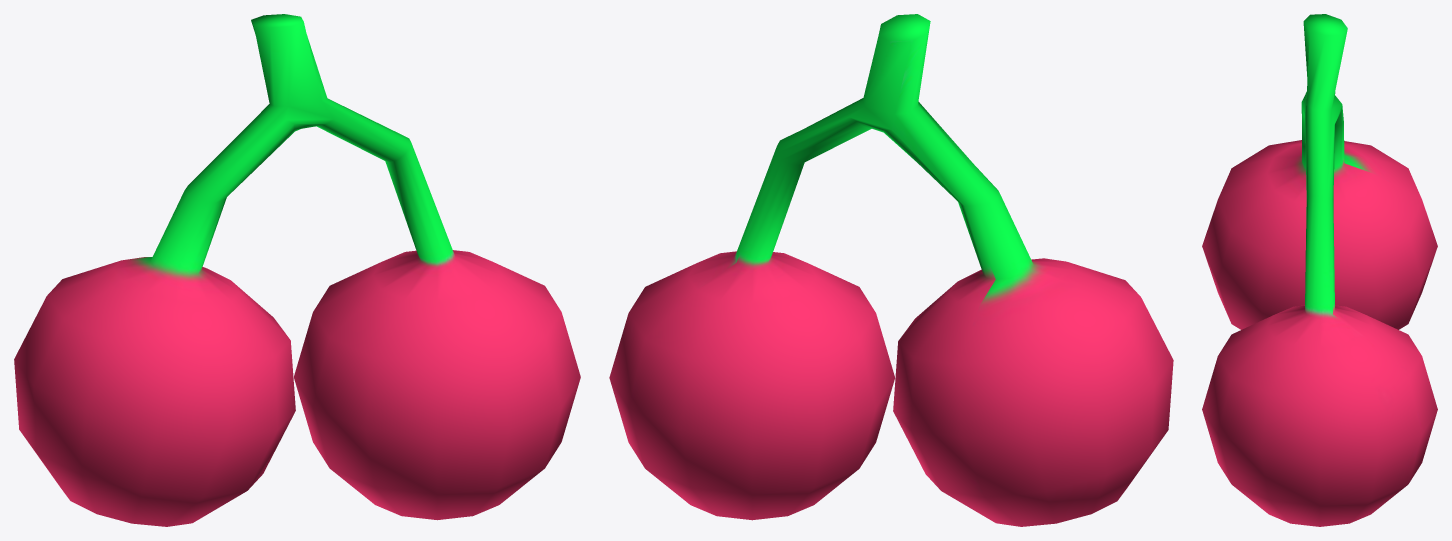
The model's file is cerise.glb.
The picture shows the model from 3 angles, left to right: view 1: azimuth 30°, elevation 25°; view 2: azimuth 150°, elevation 25°; view 3: azimuth 270°, elevation 25°; orthographic projection. The views are drawn at different scales.
Visible parts, largest first — view 1: CHERRY_21; view 2: CHERRY_21; view 3: CHERRY_21.
Boxes of the visible parts, x1,y1,x2,y2 form: CHERRY_21: [14, 14, 580, 526]; CHERRY_21: [609, 14, 1173, 526]; CHERRY_21: [1202, 14, 1437, 526].
Bounding box in the file's own units: 0.9471 × 0.9024 × 0.4461.
1 material, 1 textured.
